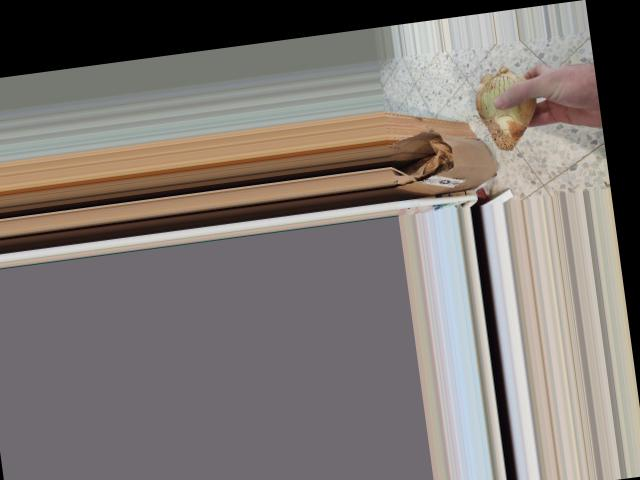onion: (469, 63, 546, 155)
